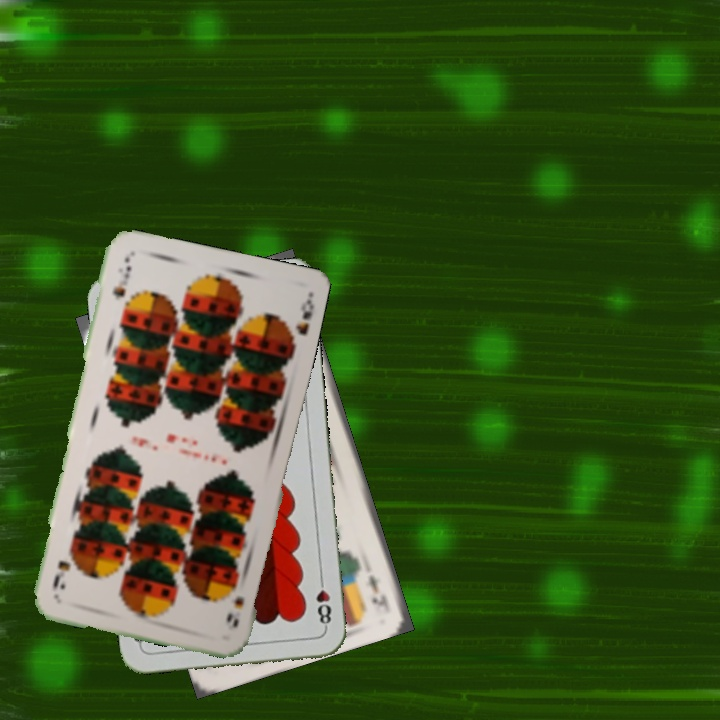EK: (362, 571, 391, 611)
H8: (312, 572, 334, 631)
S9: (108, 253, 134, 301), (222, 592, 247, 630)
